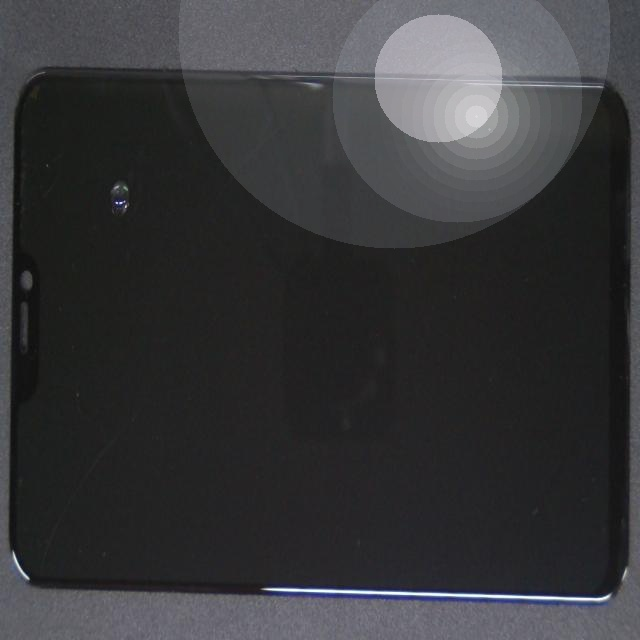oil: (67, 63, 166, 273)
